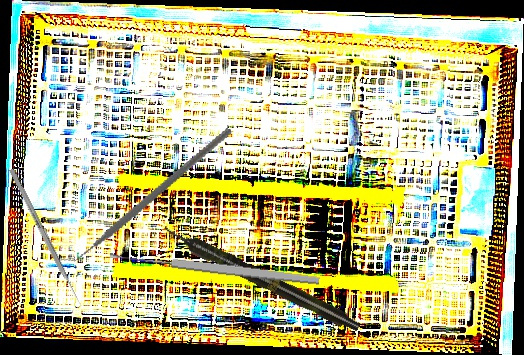Chopper: (55, 90, 234, 299)
Handpiece: (160, 220, 363, 336)
Pusher: (8, 168, 84, 308)
Surgical Spoon: (109, 249, 320, 287)
